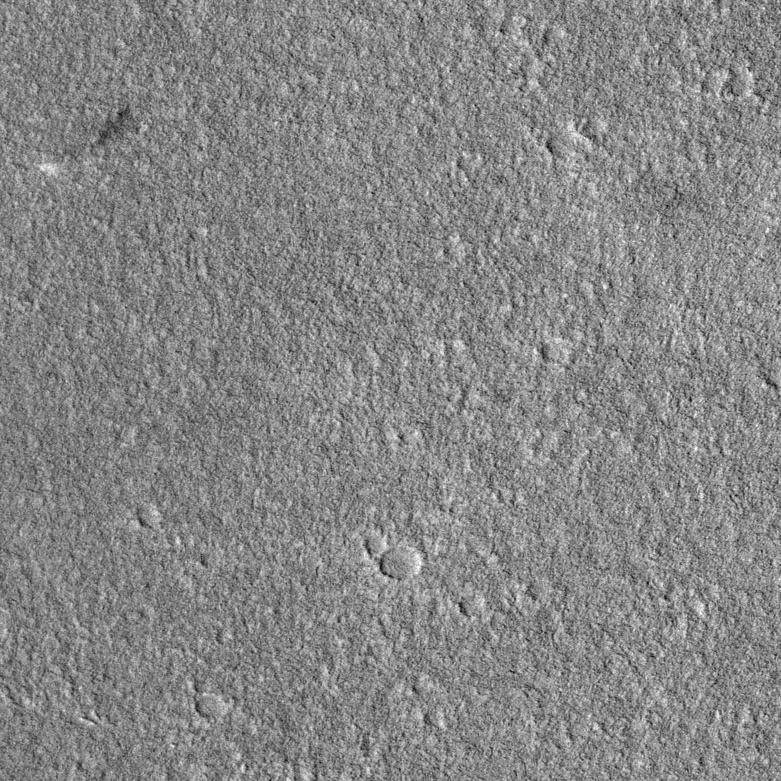dust_devil: (33, 101, 143, 179)
